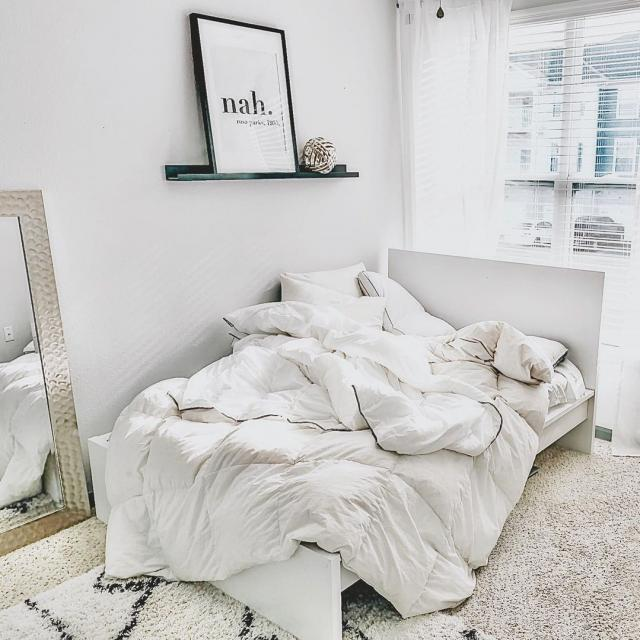bed: (92, 254, 584, 602)
